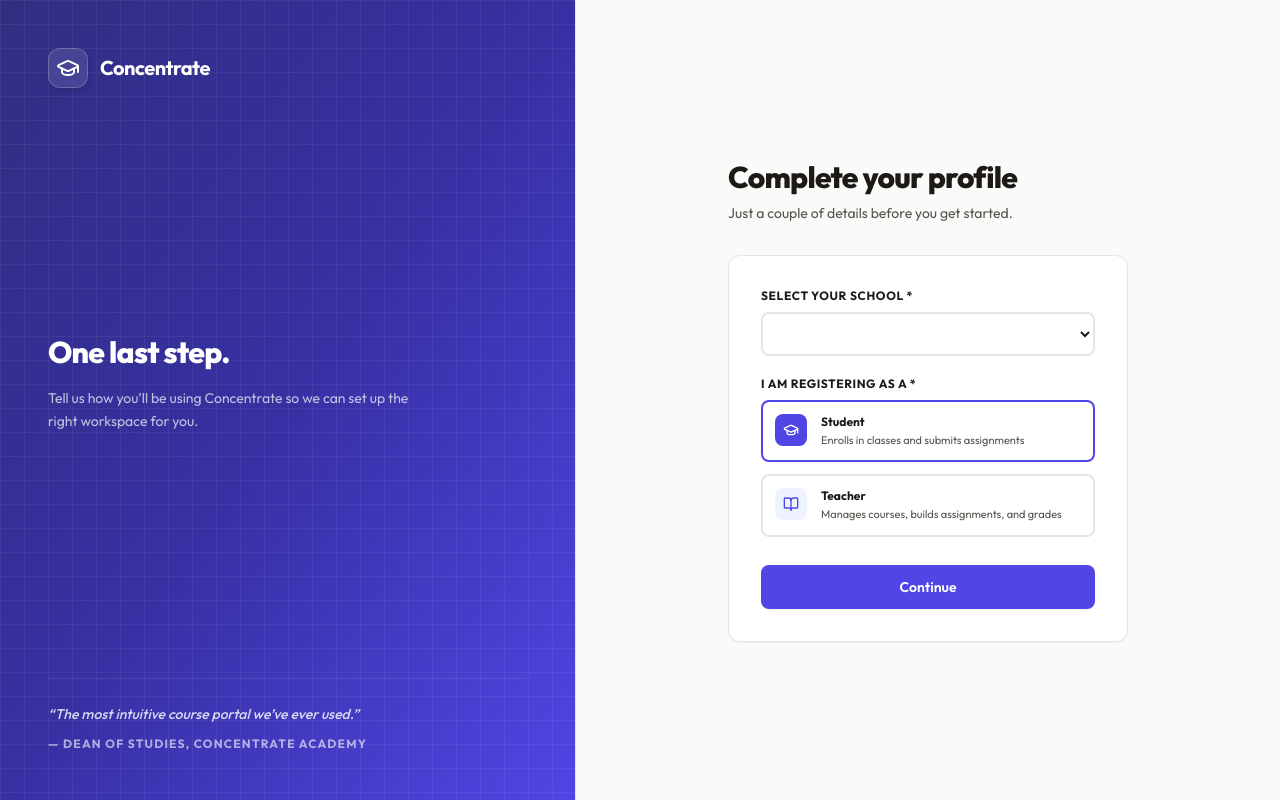
Test: CompleteProfilePage › dismisses the toast when the close button is clicked
Click the button "Continue": (928, 586) top-left (761, 564), bottom-right (1095, 608)
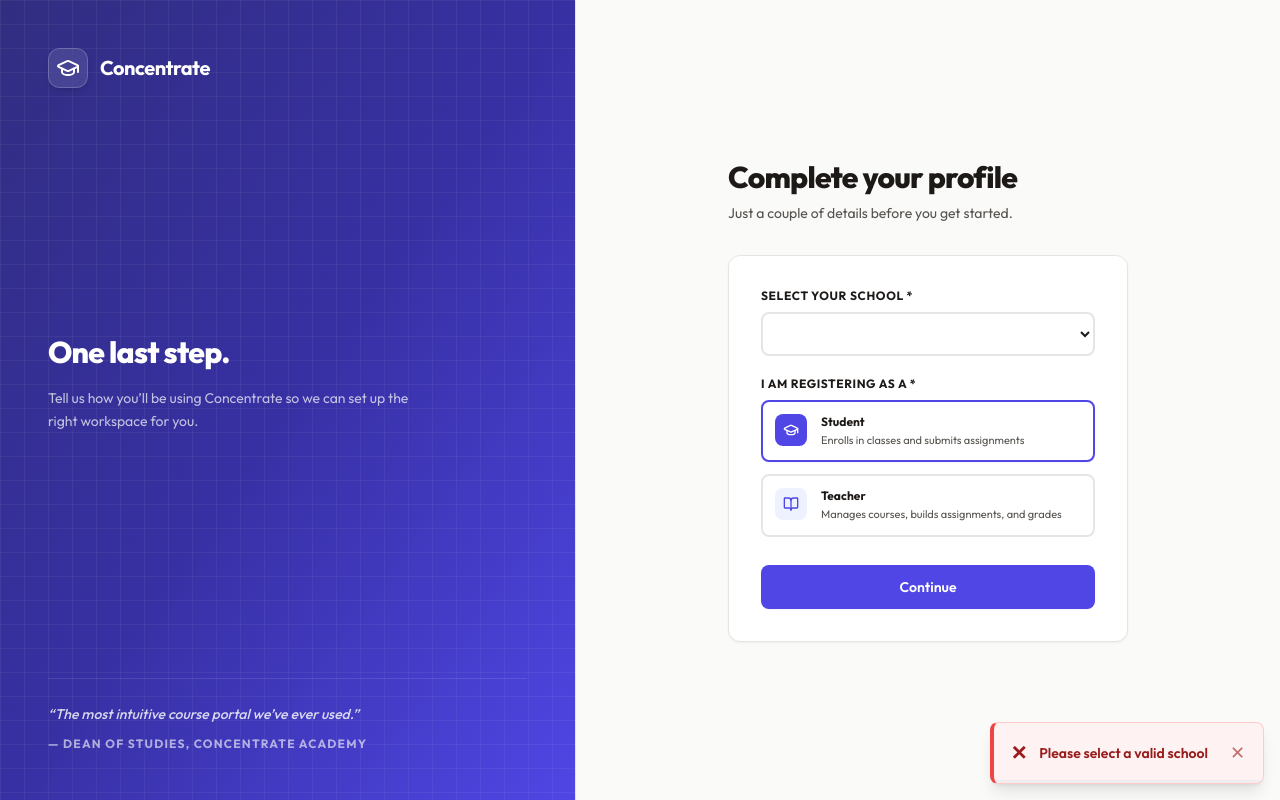
Result: the text "Please select a valid school" is shown at top-left (1039, 743), bottom-right (1216, 763)
Click the button "✕": (1237, 753) top-left (1228, 737), bottom-right (1247, 769)
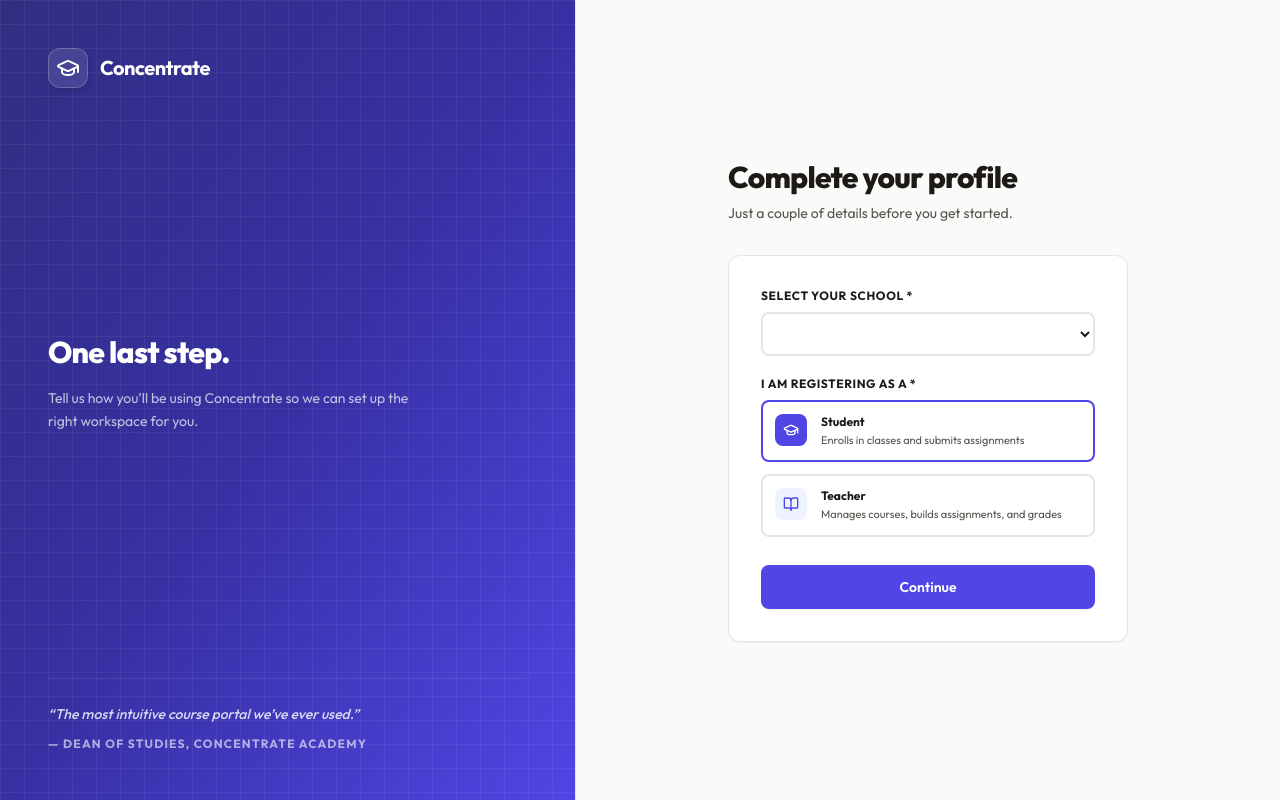
Result: the text "Please select a valid school" is gone
